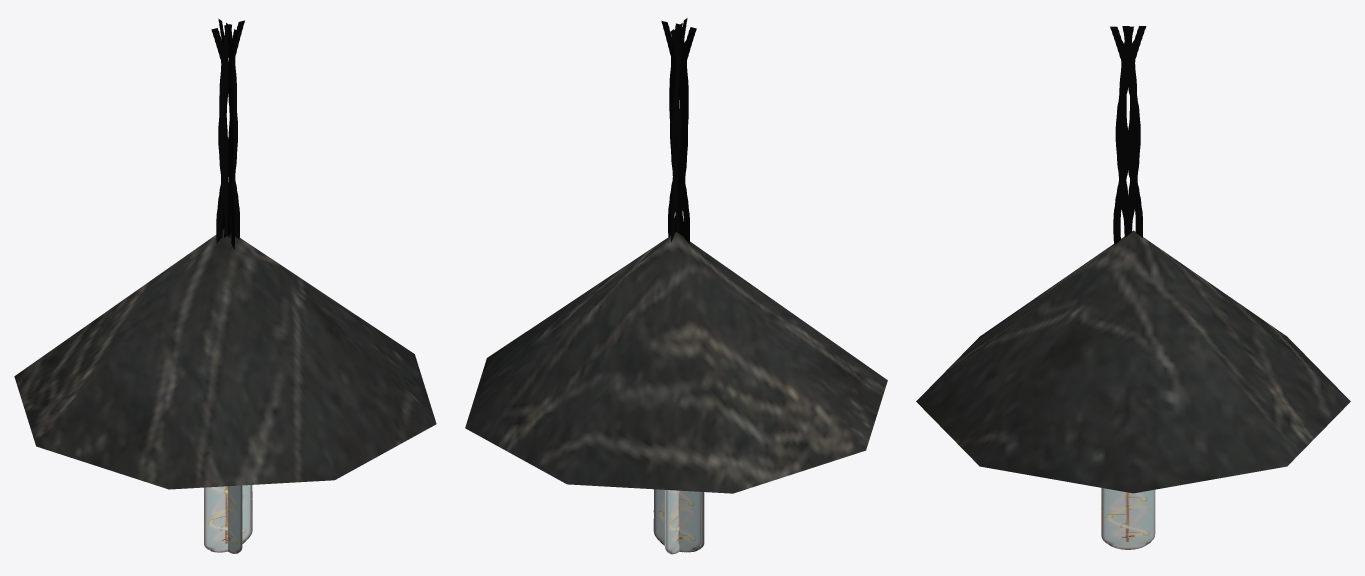
Rendered from ConeLamp.fbx.
The picture shows the model from 3 angles, left to right: view 1: azimuth 30°, elevation 25°; view 2: azimuth 150°, elevation 25°; view 3: azimuth 270°, elevation 25°; orthographic projection.
Visible parts, largest first — view 1: ConeLamp; view 2: ConeLamp; view 3: ConeLamp.
Boxes of the visible parts, left/top/right/bottom form: ConeLamp: left=14, top=18, right=436, bottom=553; ConeLamp: left=465, top=18, right=887, bottom=554; ConeLamp: left=916, top=26, right=1350, bottom=549.
Bounding box in the file's own units: 0.251 × 0.3332 × 0.251.
